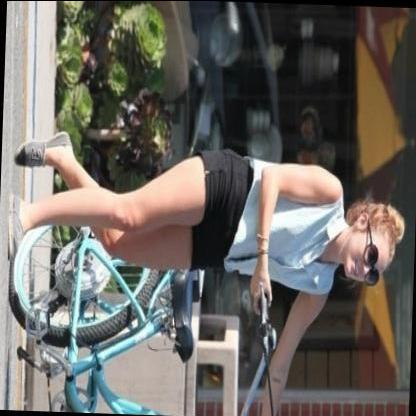no_safety-shoe: (7, 109, 80, 181), (1, 181, 31, 272)
